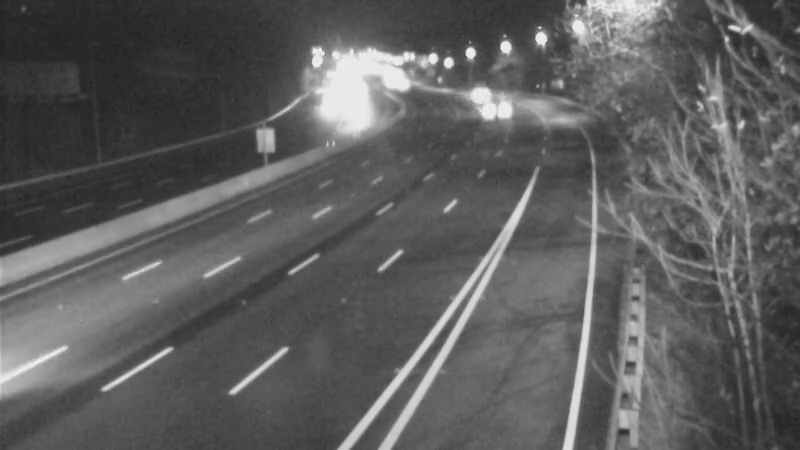vehicle: (447, 70, 497, 120), (467, 88, 517, 138)
